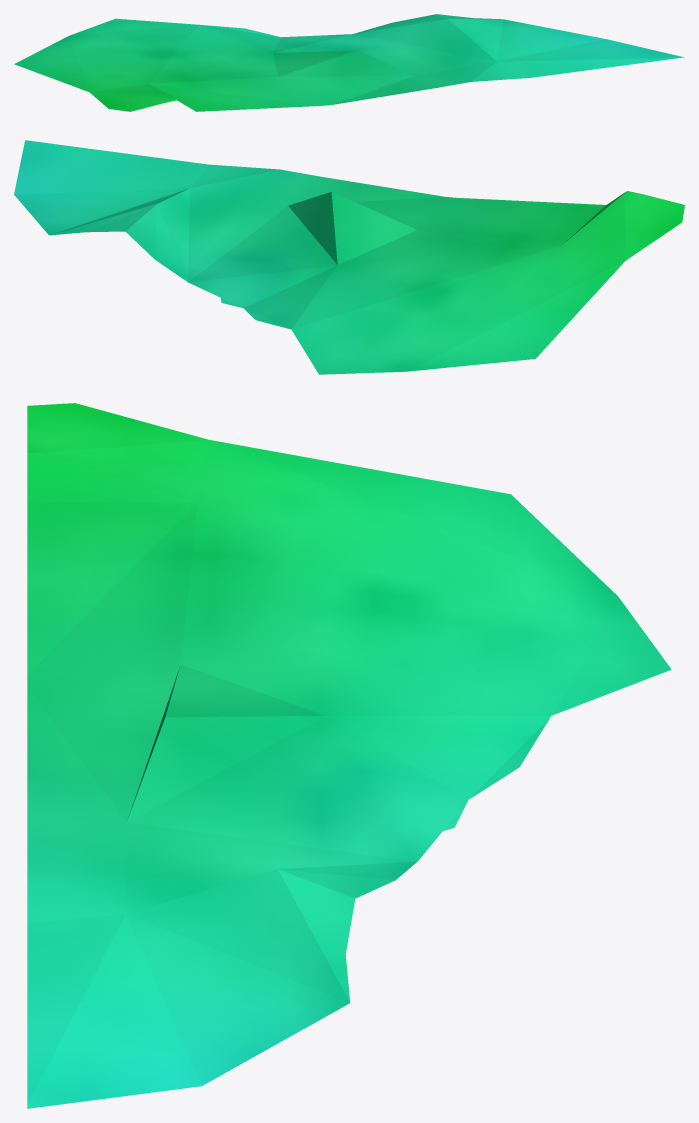
3 renders of one model, top to bottom at view 1: azimuth 30°, elevation 25°; view 2: azimuth 150°, elevation 25°; view 3: azimuth 270°, elevation 25°, orthographic. The views are drawn at different scales.
Size of the model in its own units: 12.39 by 1.82 by 6.13.
1 material, 1 textured.
